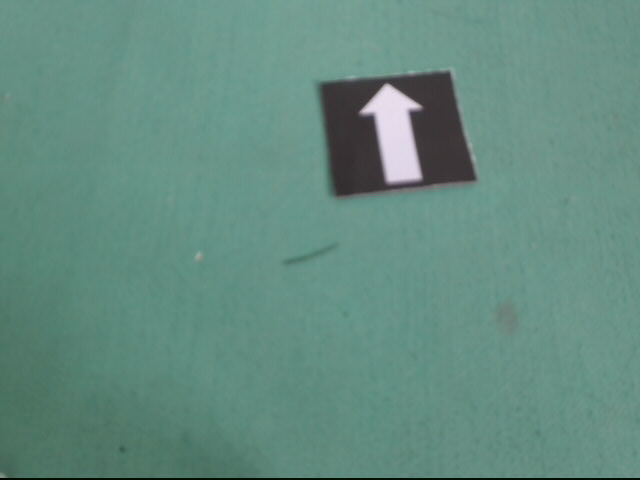straight: (321, 71, 475, 200)
